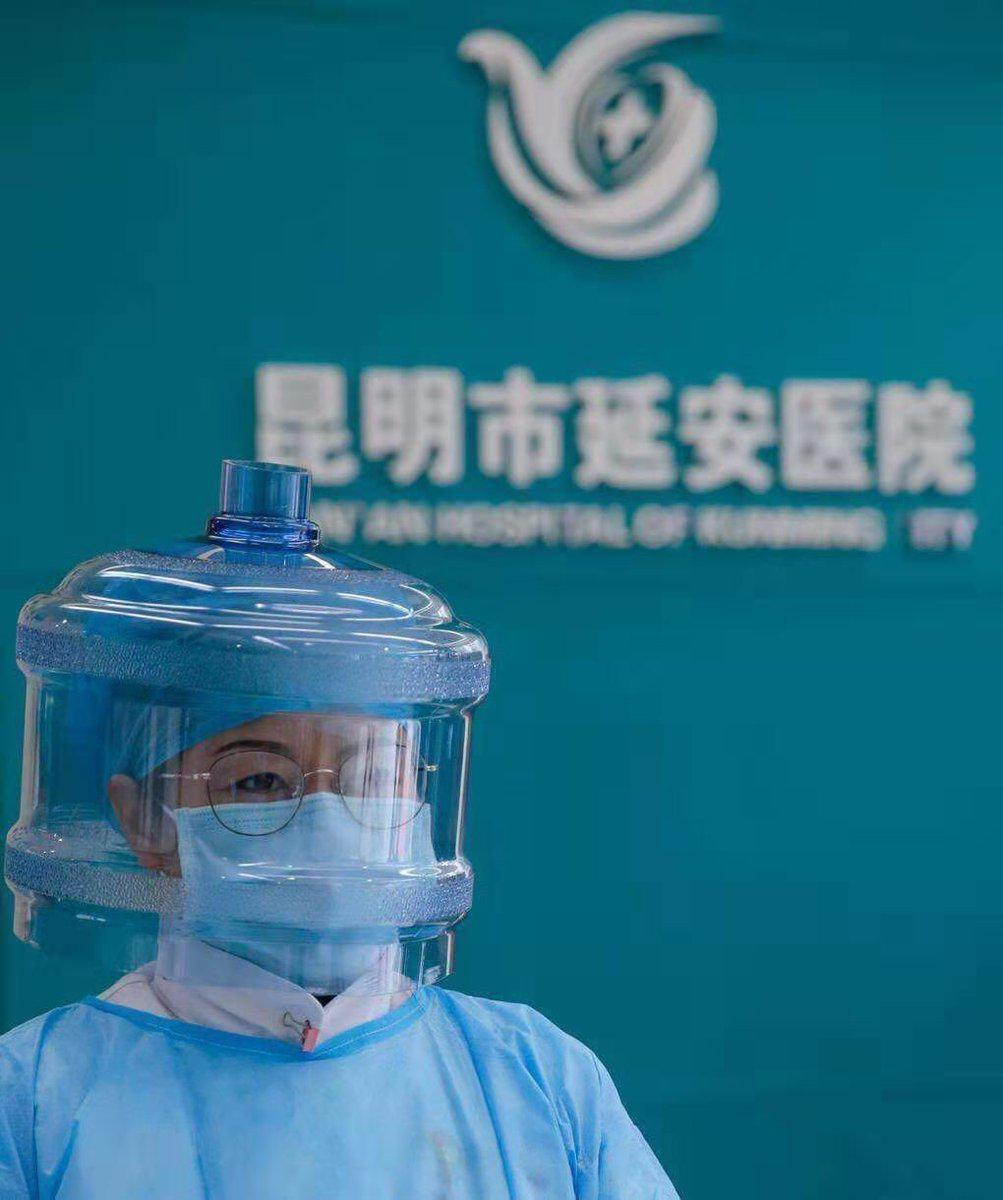mask: (166, 721, 434, 1001)
